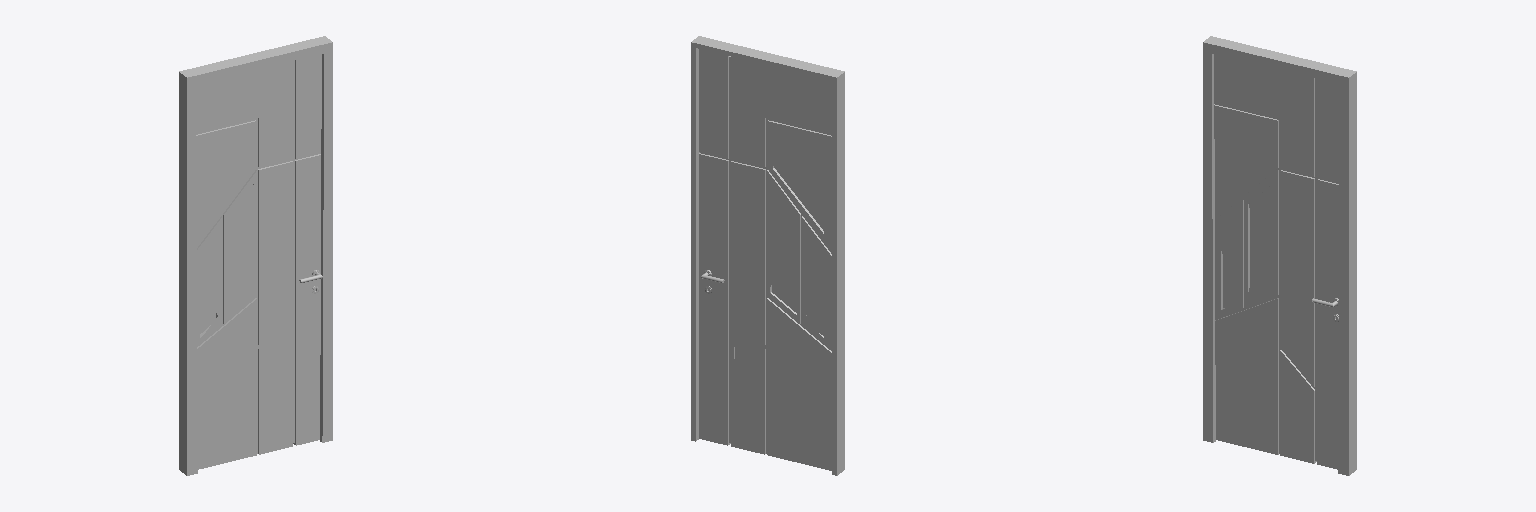
The model's file is Door 3.obj.
The picture shows the model from 3 angles: view 1: azimuth 30°, elevation 25°; view 2: azimuth 150°, elevation 25°; view 3: azimuth 330°, elevation 25°; orthographic projection.
Size of the model in its own units: 1.08 by 2.81 by 0.1752.